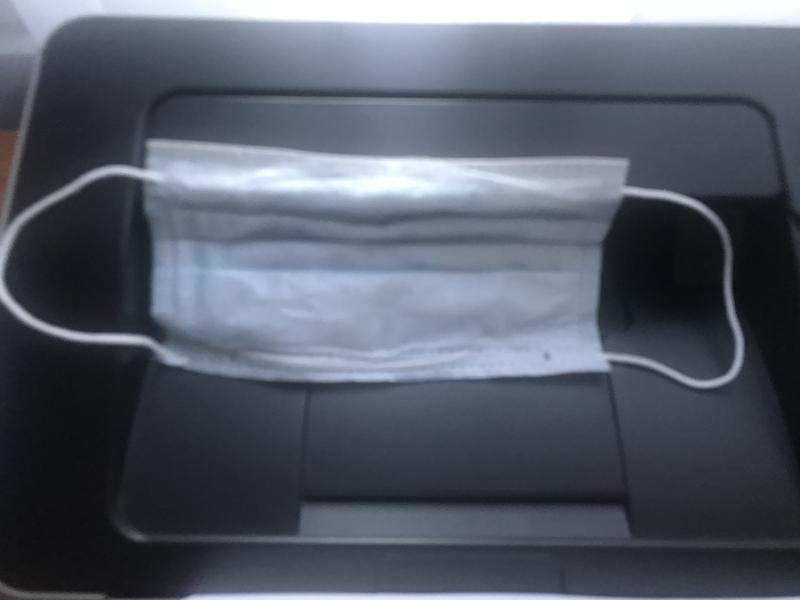medical_mask: (2, 139, 744, 390)
